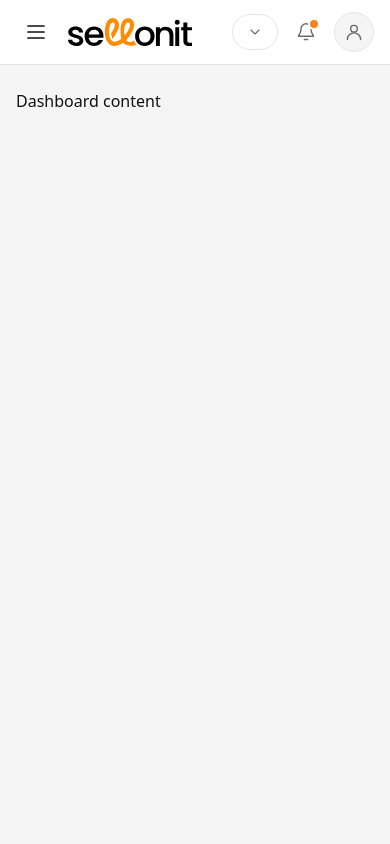
Test: supplier workspace shell › closes the mobile drawer when the backdrop is clicked
Click the button named "Open navigation": (36, 32) x1=16 y1=12 x2=56 y2=52
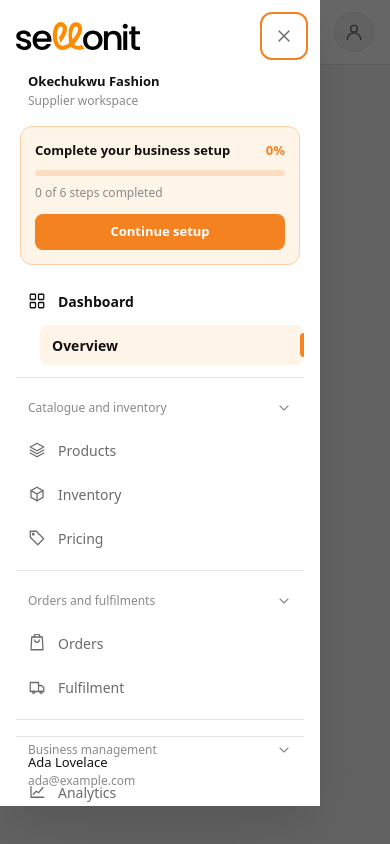
Click the dialog: (160, 403) x1=0 y1=0 x2=320 y2=806
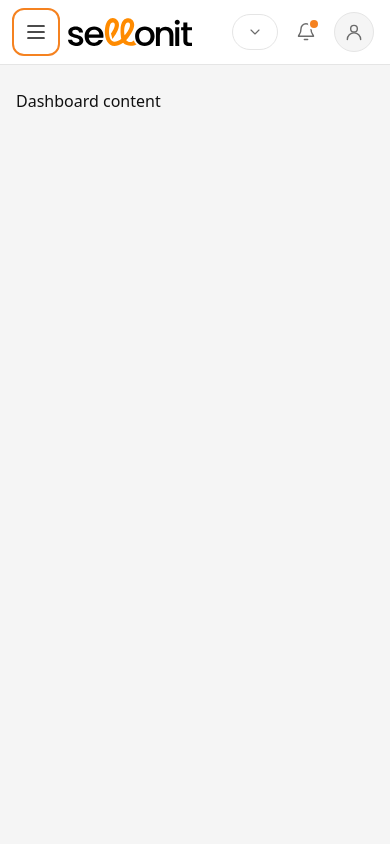
Expected: the dialog is gone
